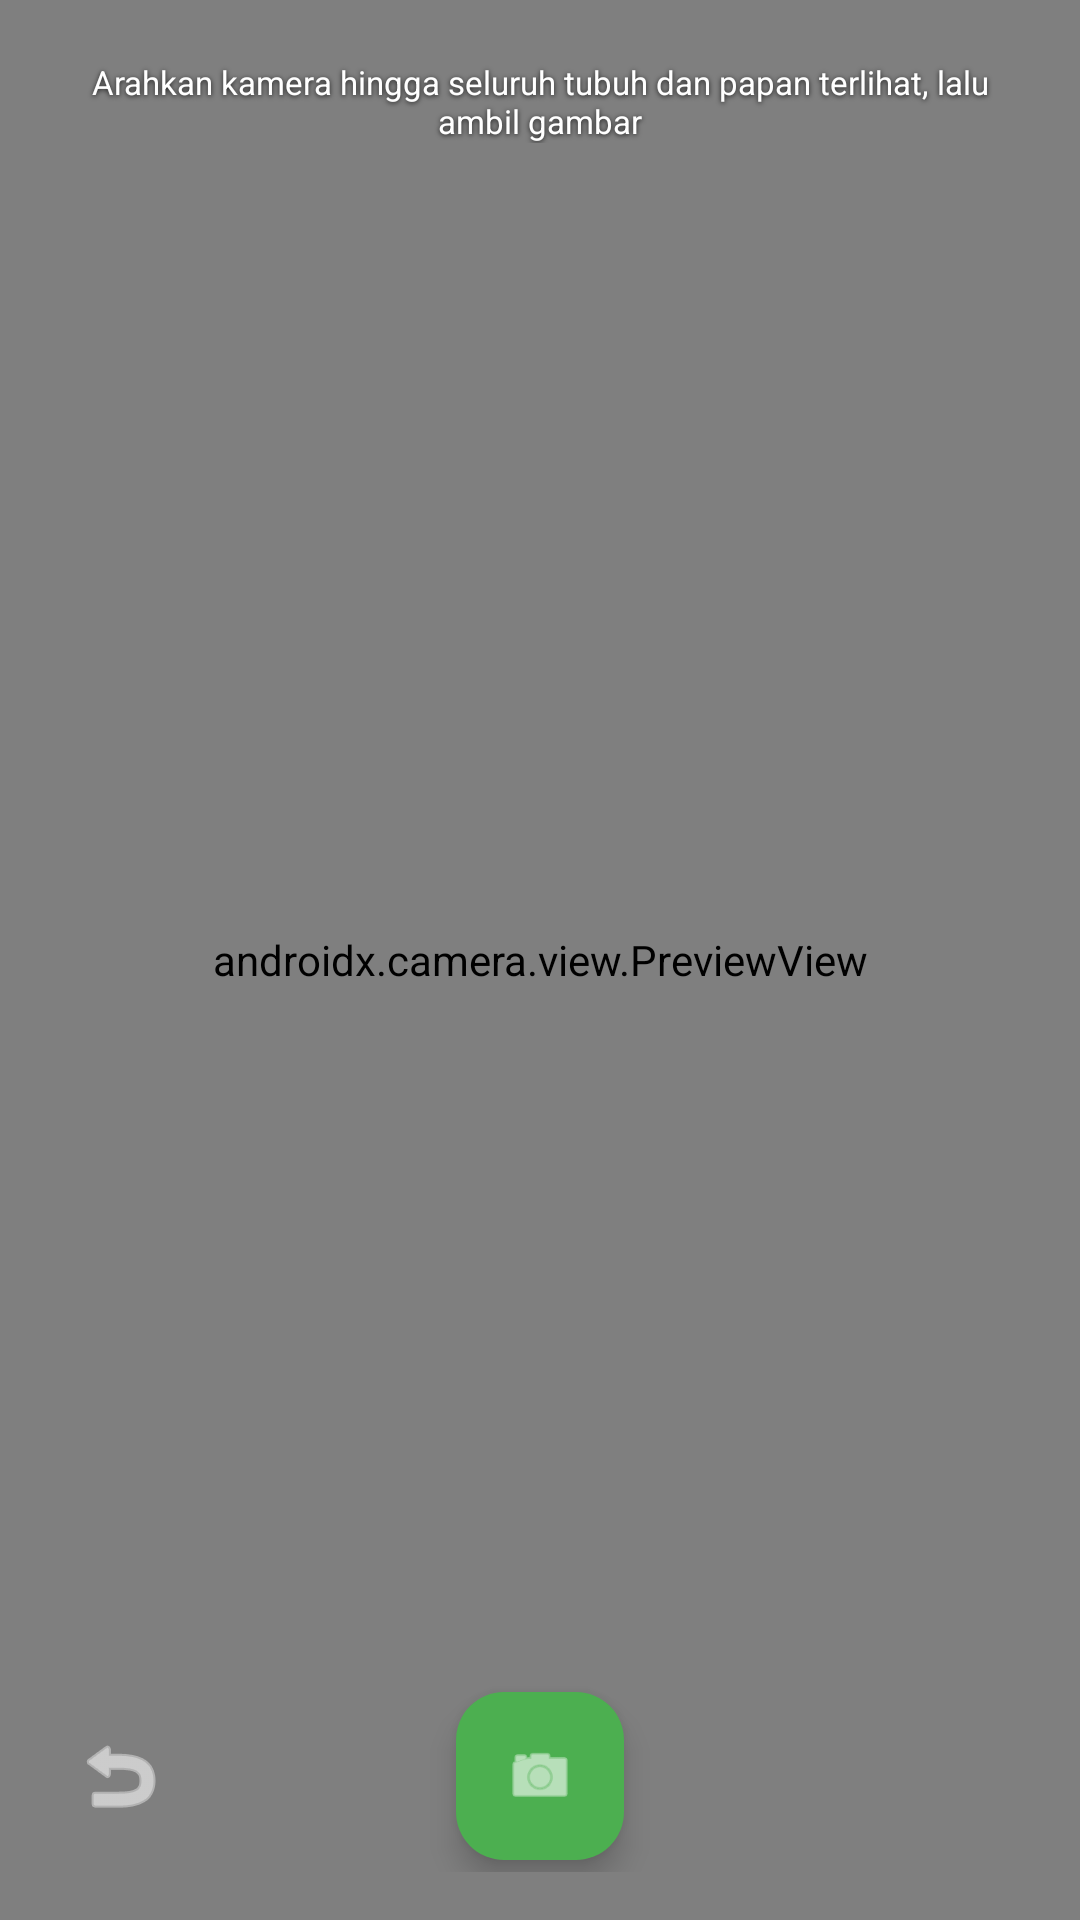

Point at icon controls on the screen. Image size 1080×1920, points as (x=x, y=y).
Ambil Gambar: (x=540, y=1776)
Kembali: (x=121, y=1777)
